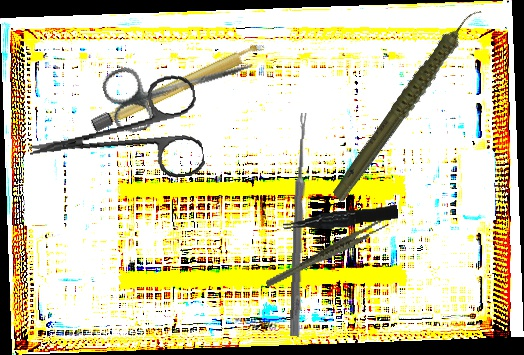Handpiece: (300, 5, 518, 204)
Iris Scissors: (21, 72, 207, 198), (98, 31, 262, 138)
Scalpel Handle: (88, 39, 270, 134)
Surgical Spoon: (289, 112, 309, 337)
Tissue Forceps: (257, 217, 395, 289), (282, 205, 399, 232)
